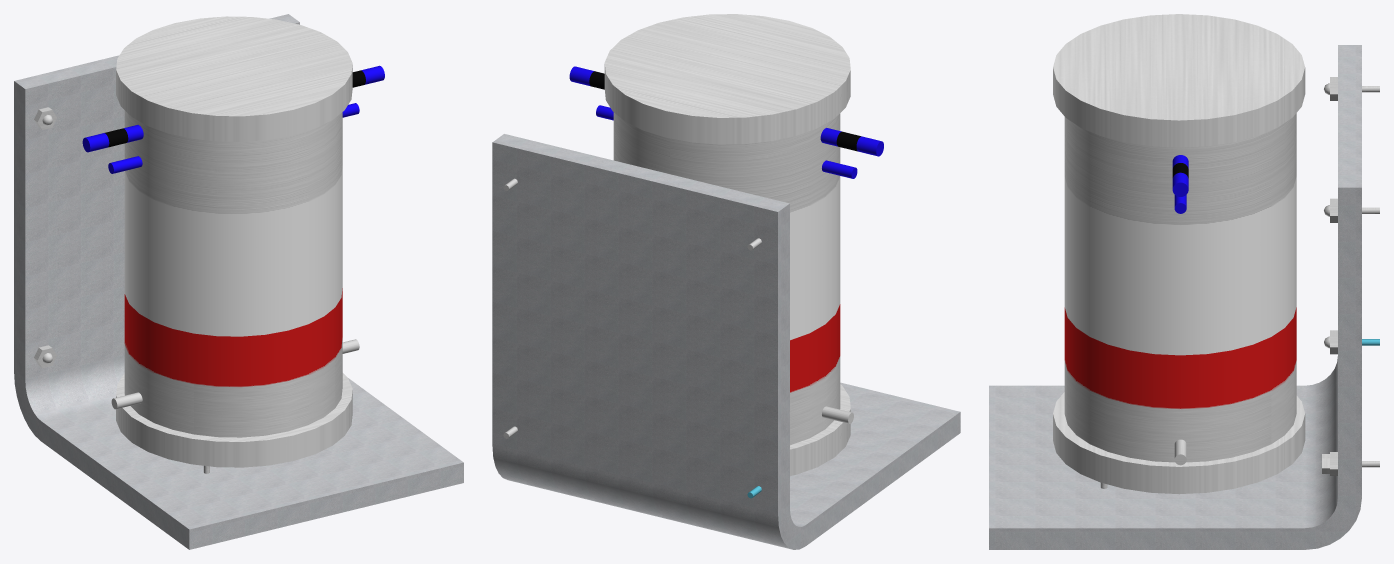
Rendered from level.obj.
3 renders of one model, left to right at view 1: azimuth 30°, elevation 25°; view 2: azimuth 150°, elevation 25°; view 3: azimuth 270°, elevation 25°, orthographic. The views are drawn at different scales.
Visible parts, largest first — view 1: Line001, Circle001, Circle002, object 12, Circle003, Circle005; view 2: Line001, Circle002, Circle001, object 12, Circle003, Circle005, Circle004; view 3: Circle001, Line001, Circle002, object 12, Circle003, Circle004.
Part boxes in pixels (bbox=[...]): Line001: bbox=[14, 14, 463, 549]; Circle001: bbox=[124, 110, 342, 336]; Circle002: bbox=[116, 16, 352, 141]; object 12: bbox=[124, 288, 342, 437]; Circle003: bbox=[116, 373, 352, 467]; Circle005: bbox=[82, 125, 143, 152]; Line001: bbox=[492, 134, 960, 549]; Circle002: bbox=[604, 14, 850, 144]; Circle001: bbox=[613, 112, 840, 340]; object 12: bbox=[790, 304, 840, 445]; Circle003: bbox=[790, 384, 850, 475]; Circle005: bbox=[820, 128, 883, 156]; Circle004: bbox=[569, 66, 604, 89]; Circle001: bbox=[1064, 113, 1296, 355]; Line001: bbox=[989, 45, 1361, 549]; Circle002: bbox=[1053, 14, 1305, 147]; object 12: bbox=[1064, 307, 1296, 462]; Circle003: bbox=[1053, 392, 1305, 494]; Circle004: bbox=[1172, 155, 1188, 196].
Size of the model in its own units: 181 by 233 by 195.
